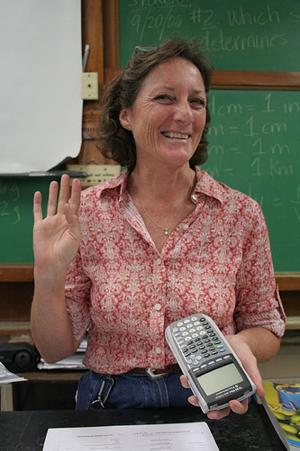person: (31, 42, 286, 414)
